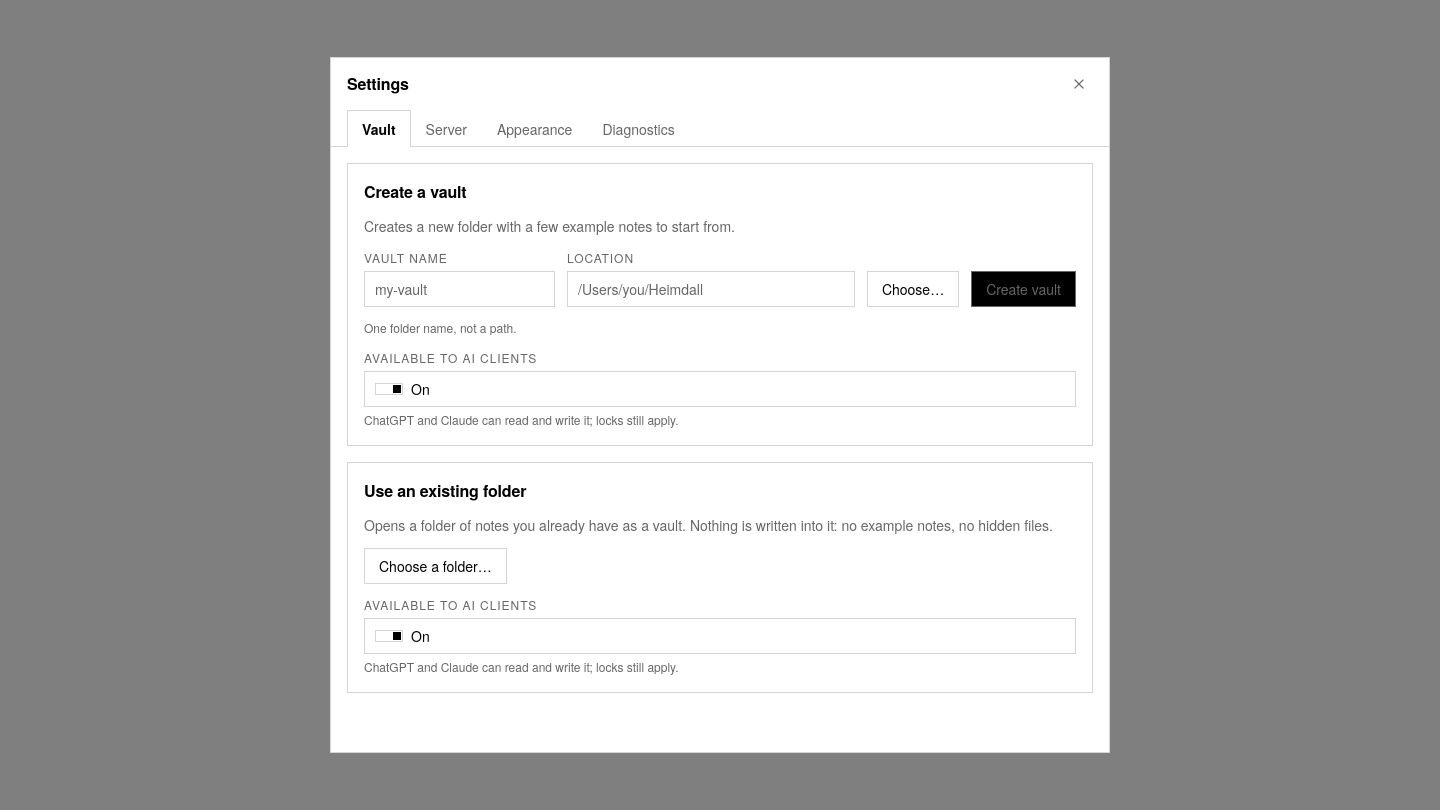
it: Settings › moves between its sections without leaving the workspace
Click the button "Appearance" at (535, 128), box [482,110,587,147]
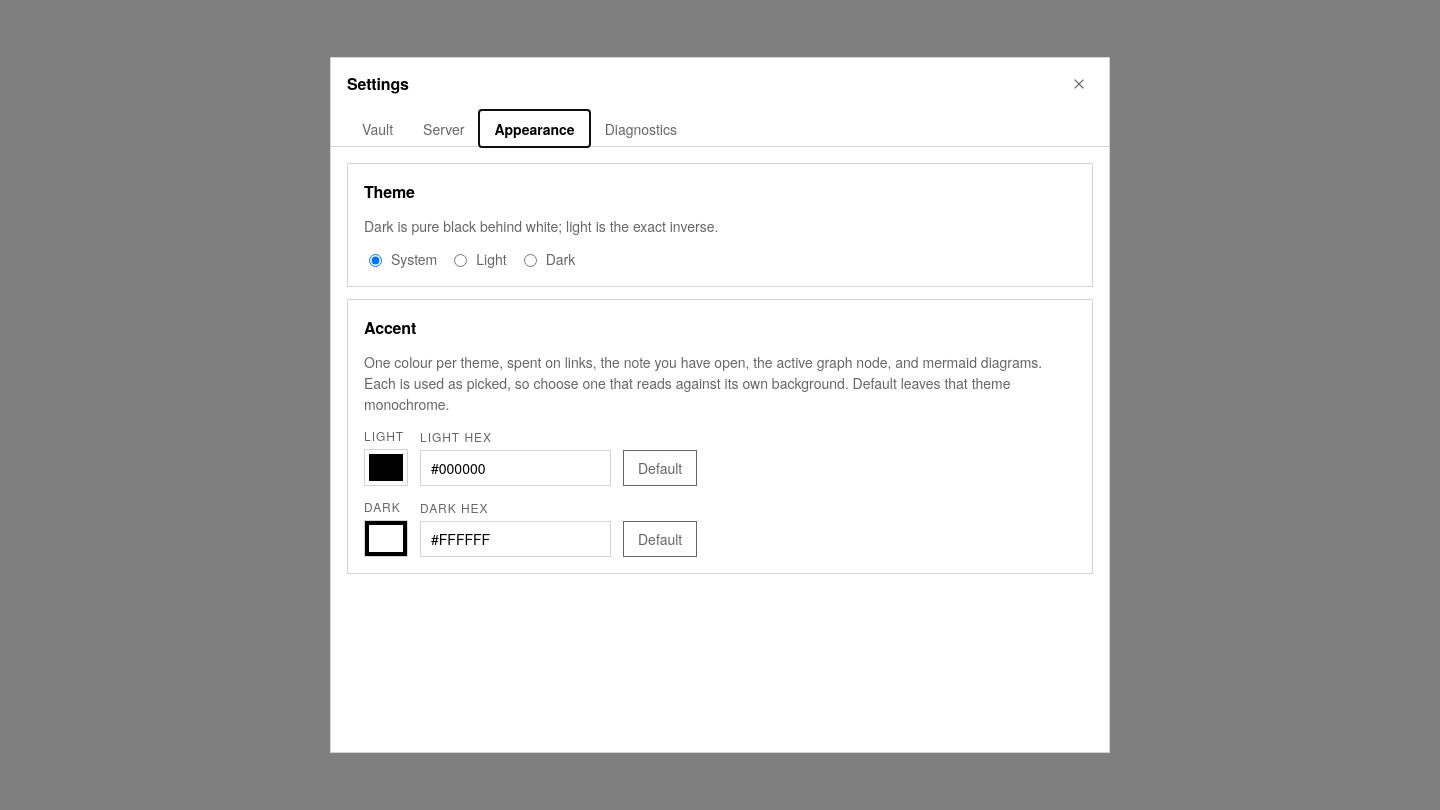
Now the element named "Theme" is shown, box [369,249,575,269]
Click the button "Diagnostics" at (641, 128), box [590,110,692,147]
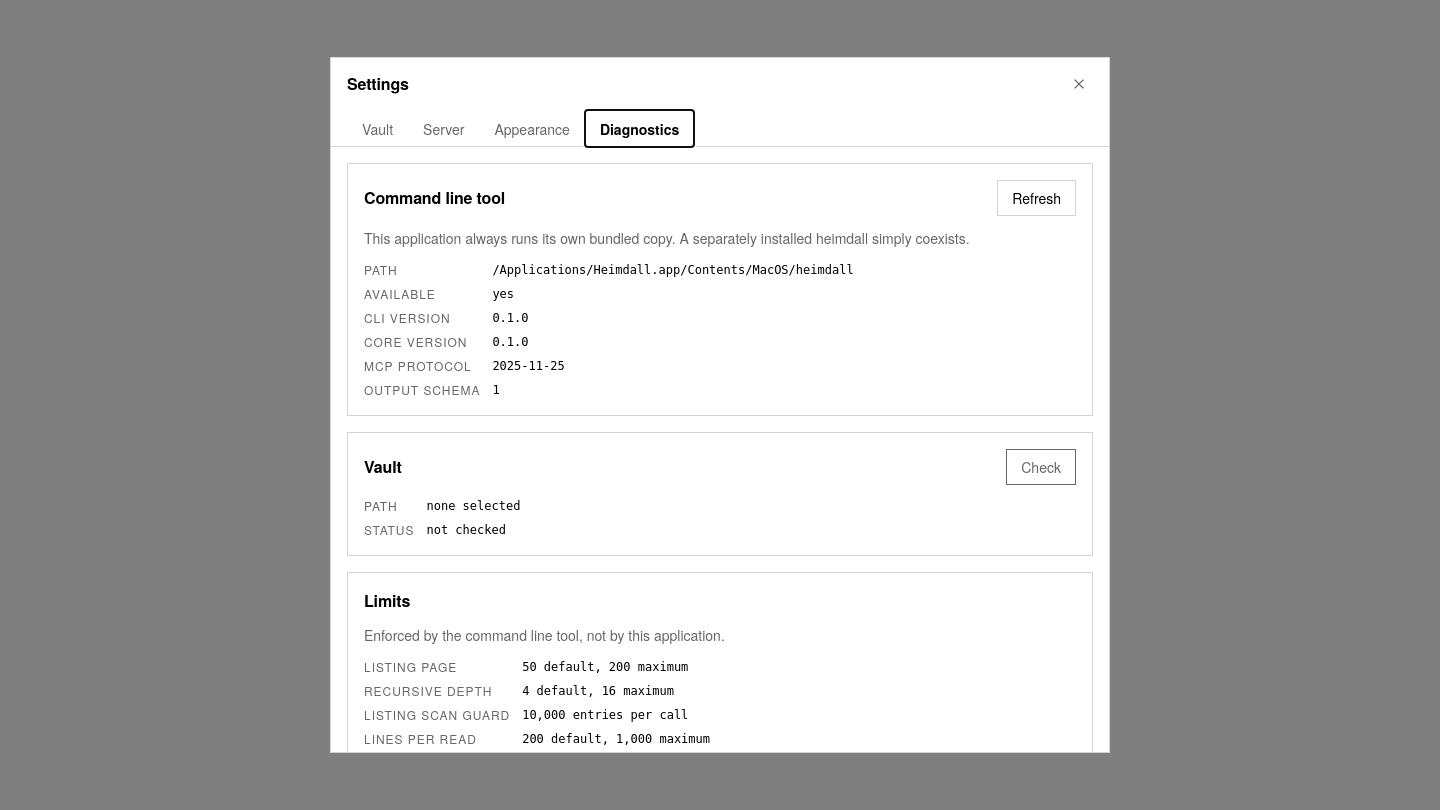
Now the heading "Command line tool" is shown, box [364,186,505,210]
